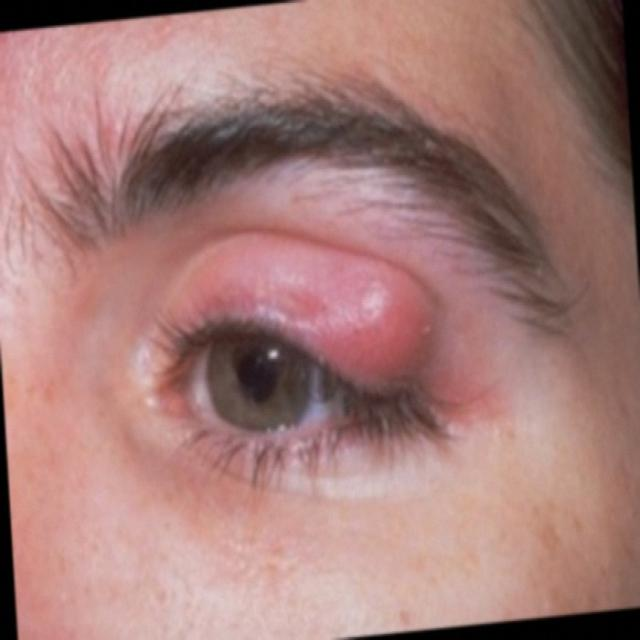Chalazion: (90, 234, 496, 505)
